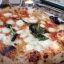basil: (28, 21, 49, 42), (2, 20, 21, 41)
pizza: (1, 5, 61, 61)
